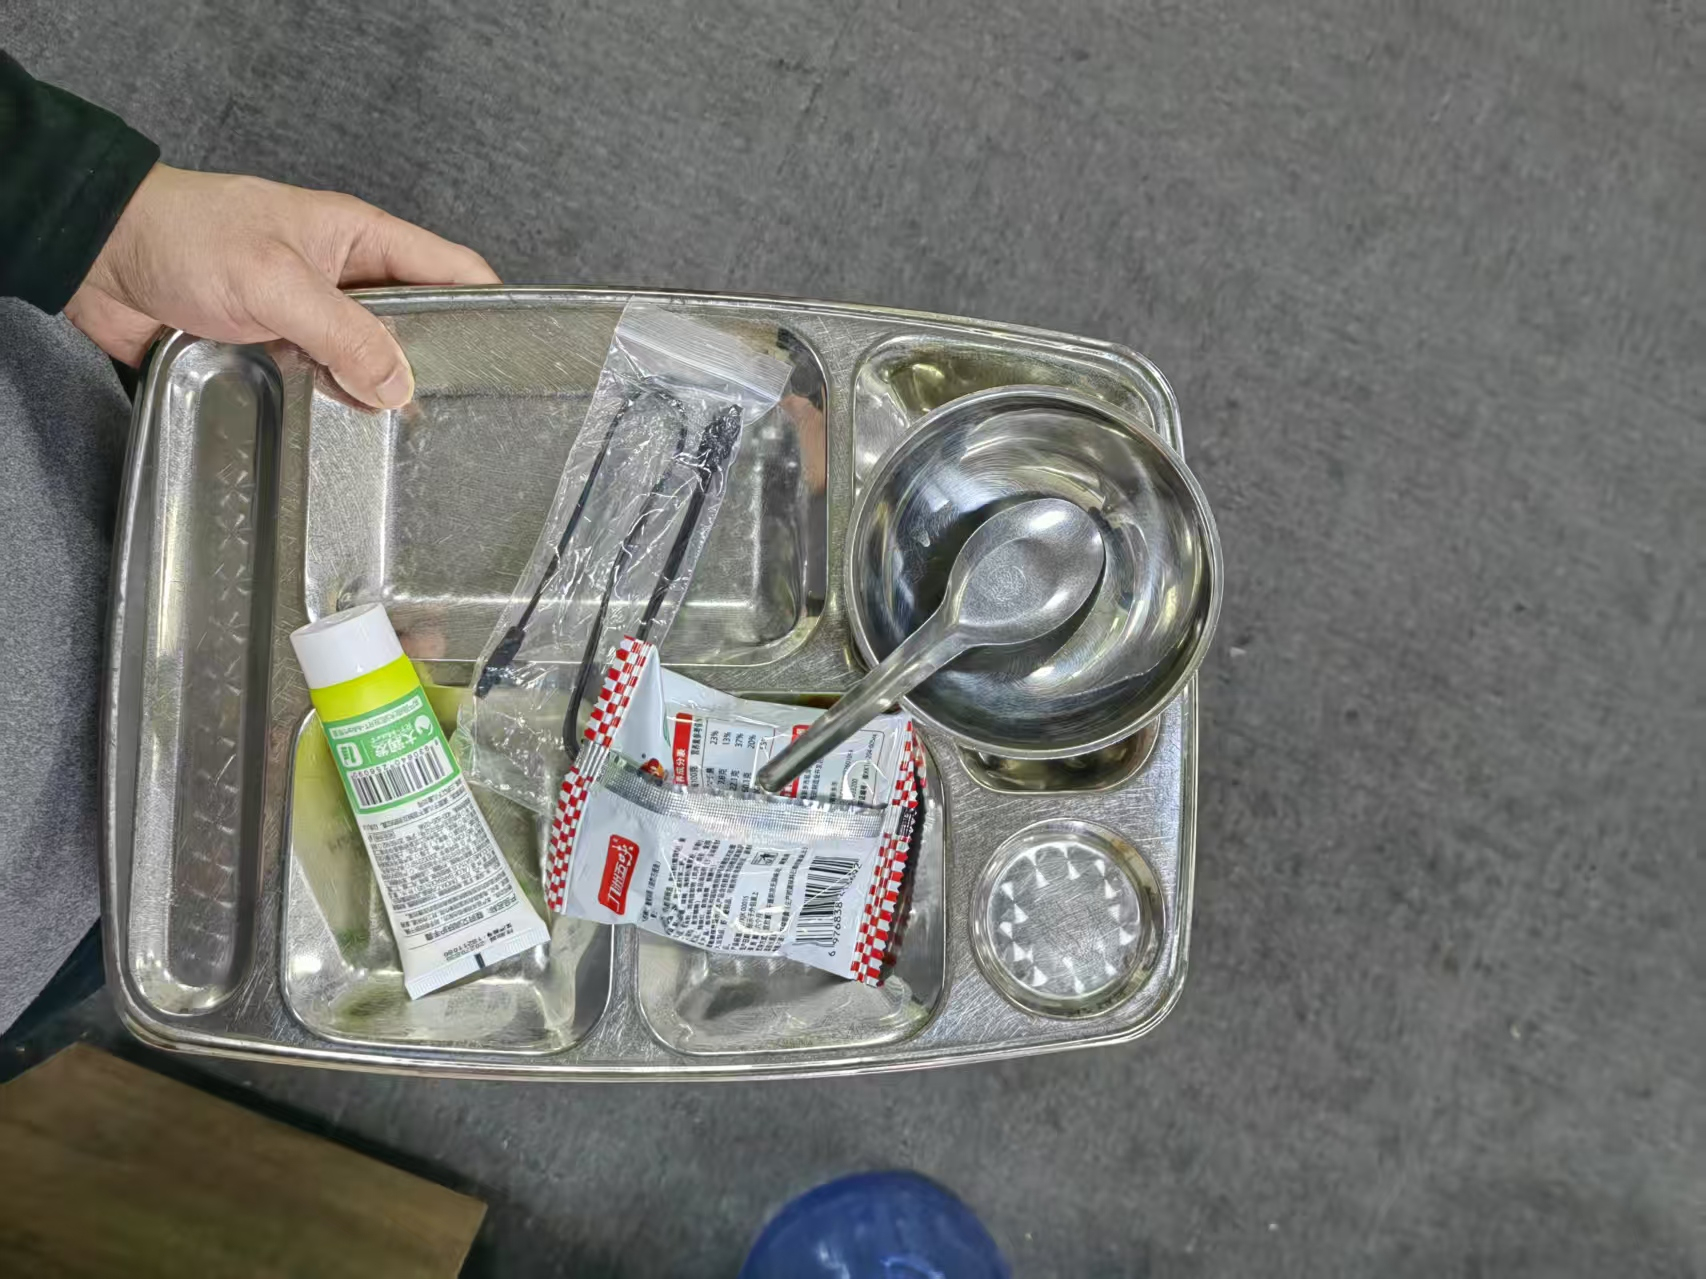moderate: (289, 302, 936, 1010)
plate: (97, 280, 1197, 1085)
